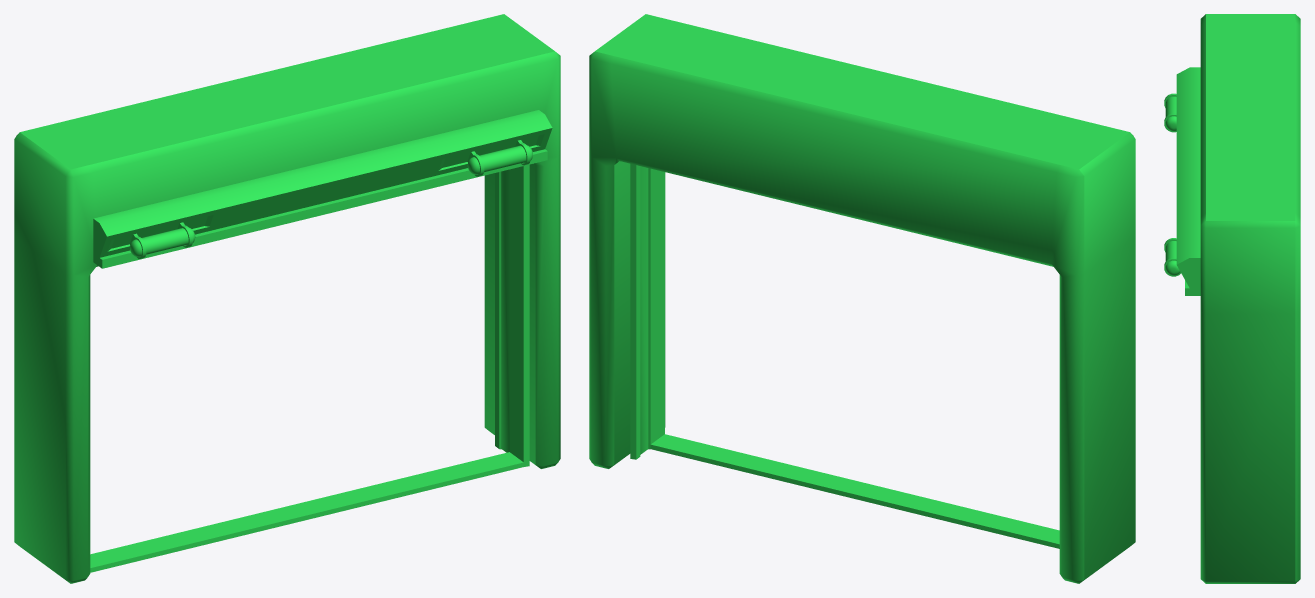
The model's file is RollDoor01.fbx.
3 renders of one model, left to right at view 1: azimuth 30°, elevation 25°; view 2: azimuth 150°, elevation 25°; view 3: azimuth 270°, elevation 25°, orthographic. The views are drawn at different scales.
Parts seen in each view (by area): view 1: RollDoor01; view 2: RollDoor01; view 3: RollDoor01.
Part boxes in pixels (x1,y1,x2,y2): RollDoor01: [14, 14, 560, 583]; RollDoor01: [589, 14, 1135, 583]; RollDoor01: [1164, 14, 1300, 583].
Bounding box in the file's own units: 500 × 400 × 136.
